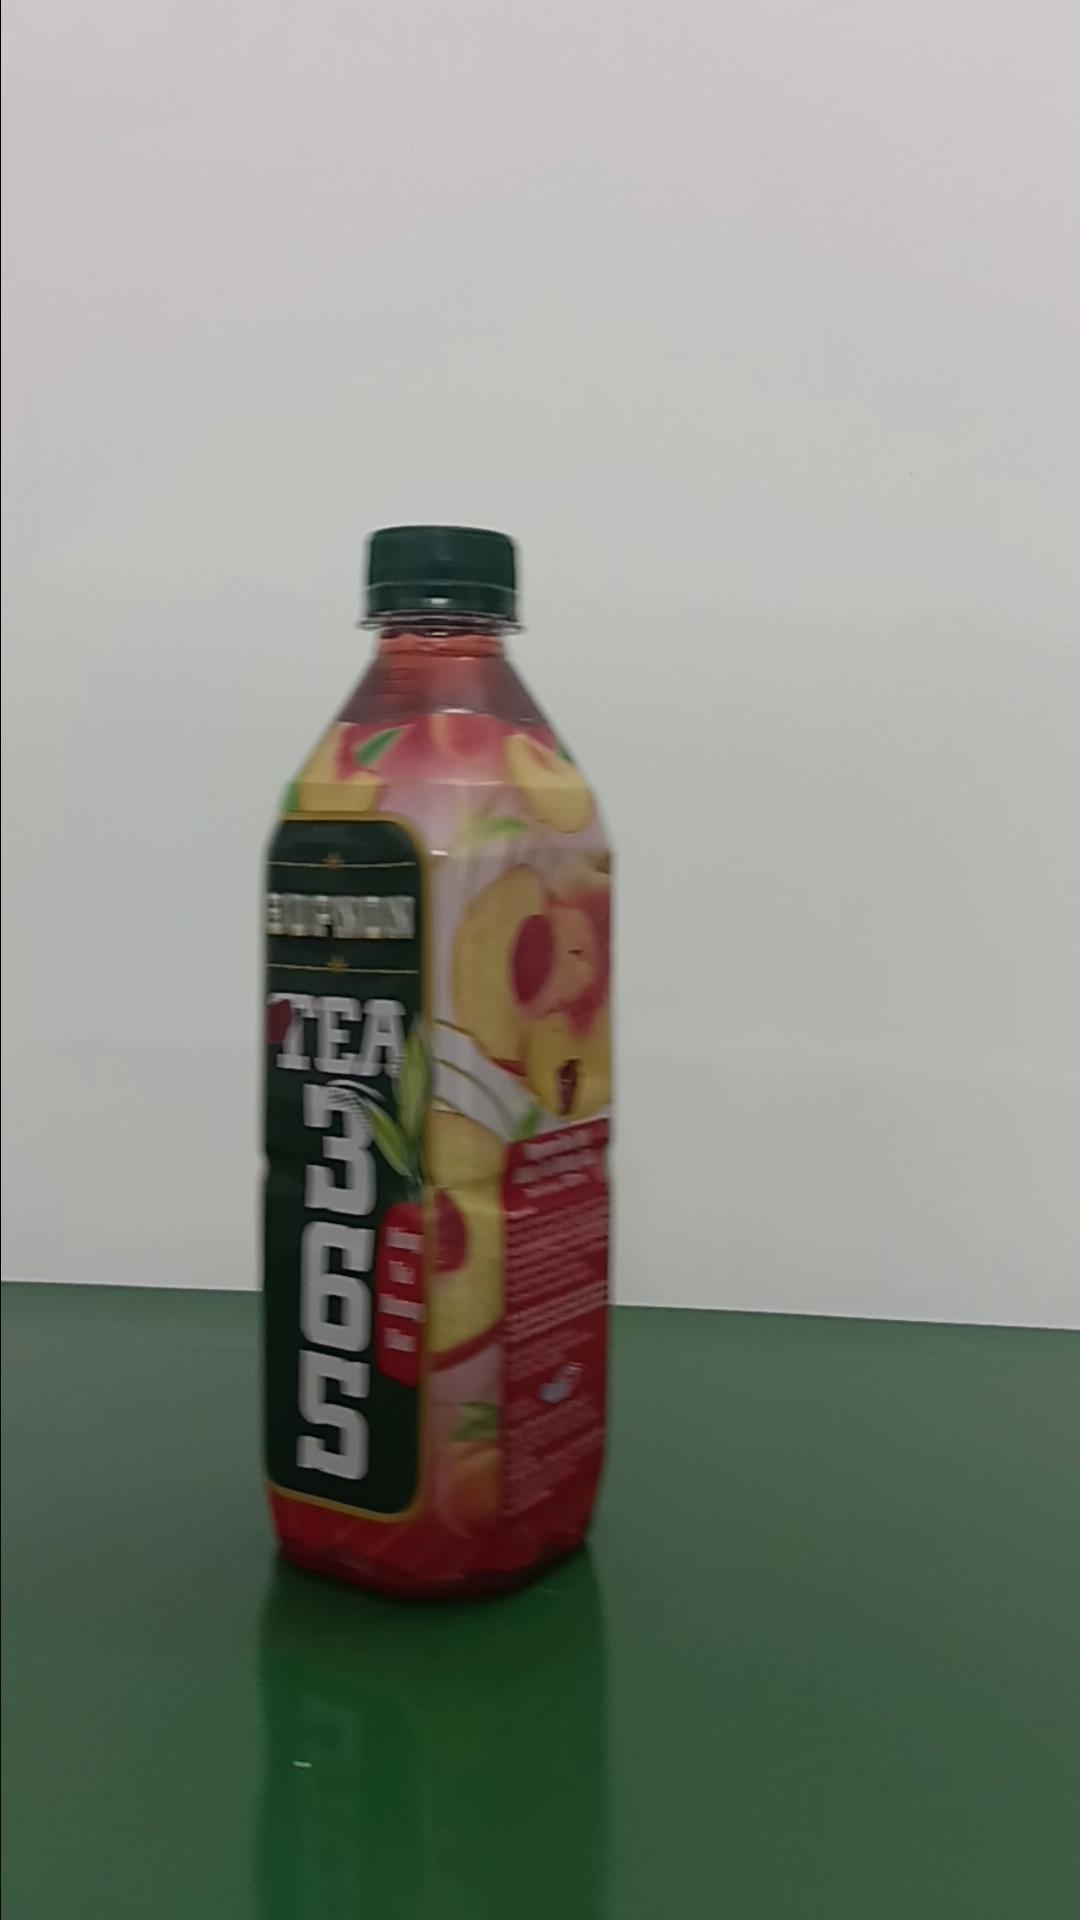loi rach va lap chai: (255, 516, 613, 1614)
